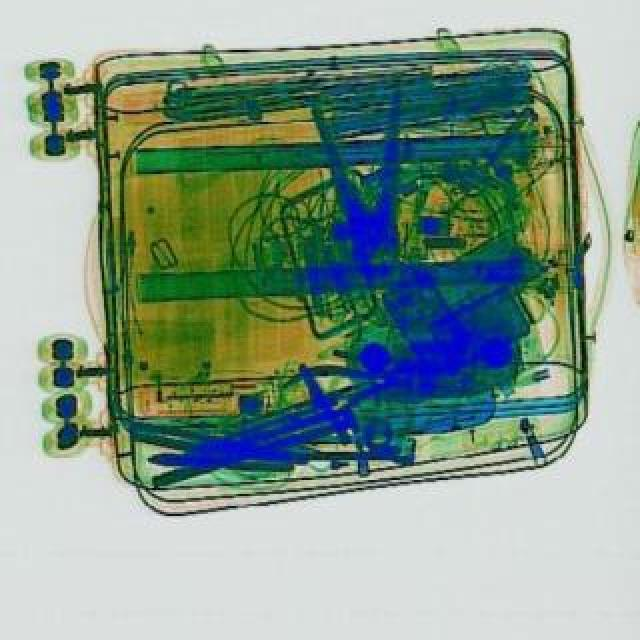wrench: (314, 86, 426, 280), (284, 346, 432, 430), (128, 422, 312, 486)
